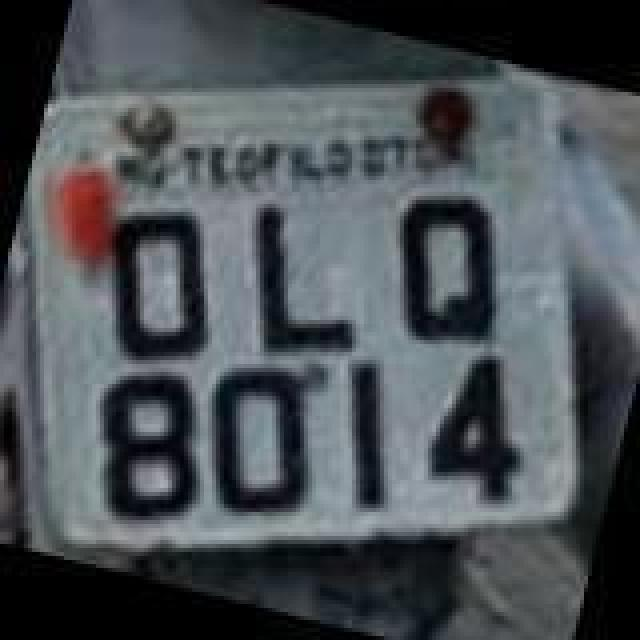1: (308, 350, 420, 514)
4: (412, 344, 548, 512)
8: (70, 360, 218, 536)
L: (216, 198, 384, 378)
O: (178, 350, 334, 530), (82, 192, 238, 368)
Q: (368, 178, 528, 358)
